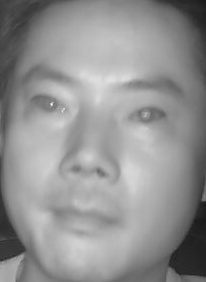eye: (29, 89, 71, 117), (127, 102, 168, 128)
mouth: (49, 192, 123, 240)
